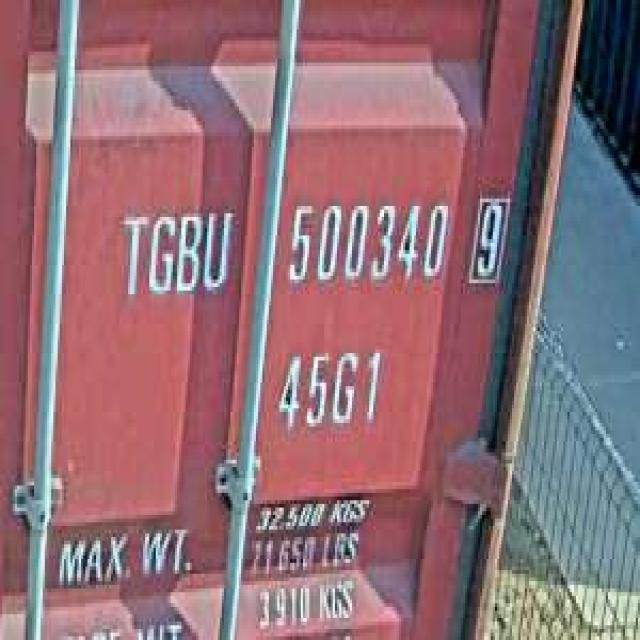dv: (465, 184, 512, 290)
owner: (115, 199, 235, 305)
serial: (280, 184, 450, 298)
size: (271, 334, 386, 438)
